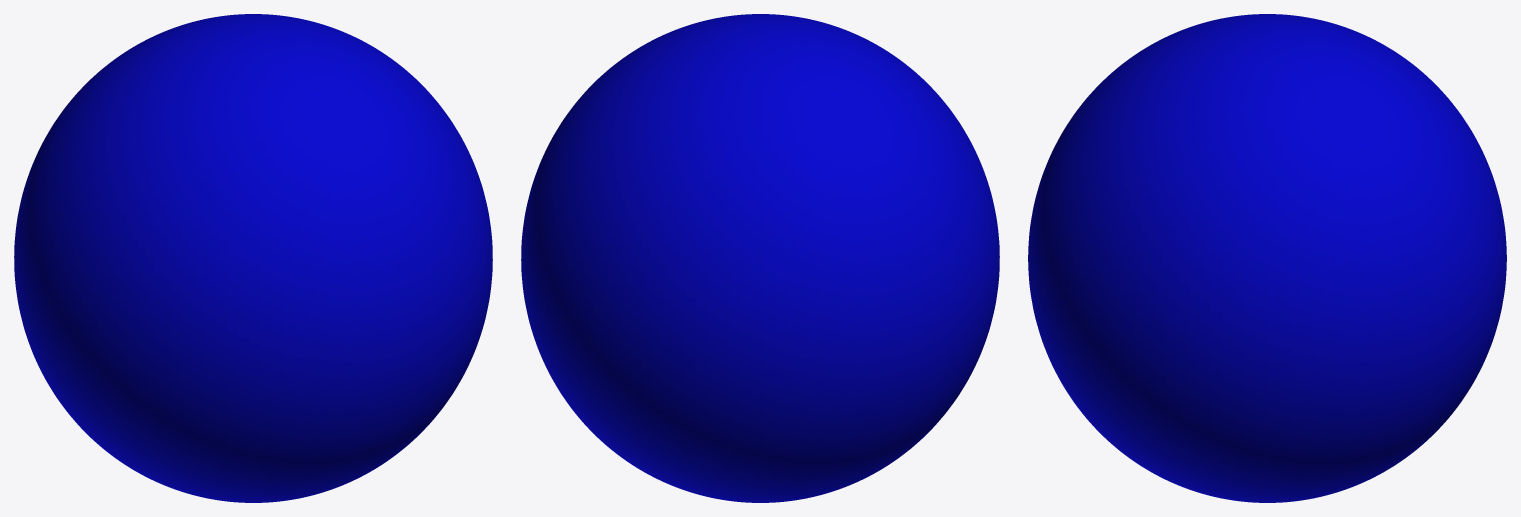
Rendered from ballBlue.fbx.
The picture shows the model from 3 angles, left to right: view 1: azimuth 30°, elevation 25°; view 2: azimuth 150°, elevation 25°; view 3: azimuth 270°, elevation 25°; orthographic projection.
Parts seen in each view (by area): view 1: Sphere.002; view 2: Sphere.002; view 3: Sphere.002.
Boxes of the visible parts, left/top/right/bottom form: Sphere.002: left=14, top=14, right=492, bottom=502; Sphere.002: left=521, top=14, right=999, bottom=502; Sphere.002: left=1028, top=14, right=1506, bottom=502.
Bounding box in the file's own units: 0.2905 × 0.2905 × 0.2987.
